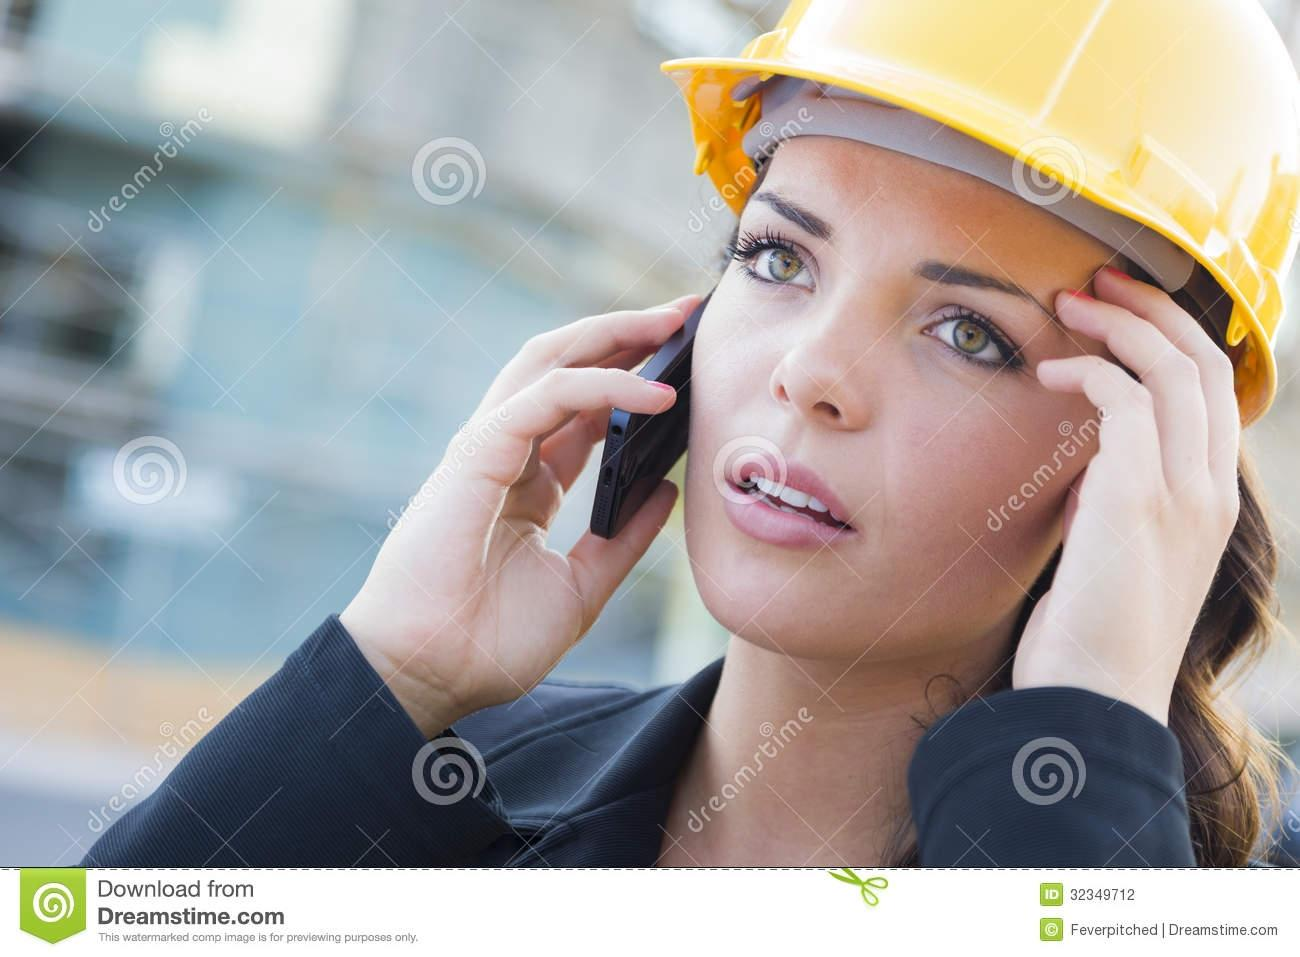helmet: (659, 4, 1300, 426)
